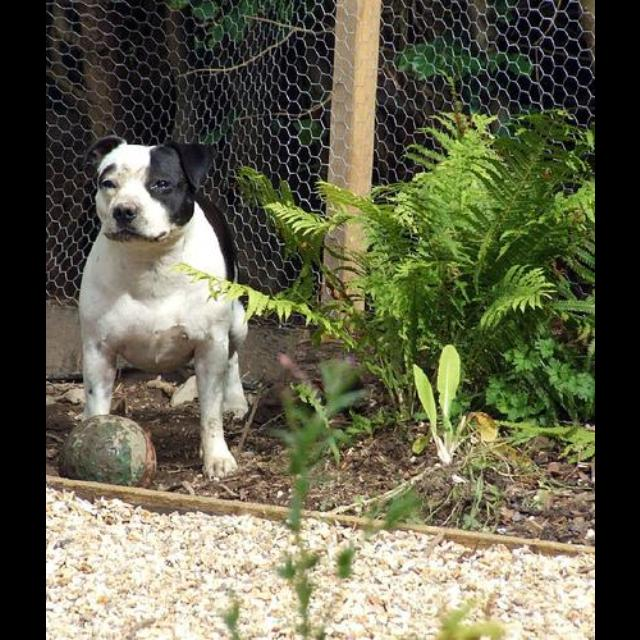staffford: (75, 134, 249, 482)
